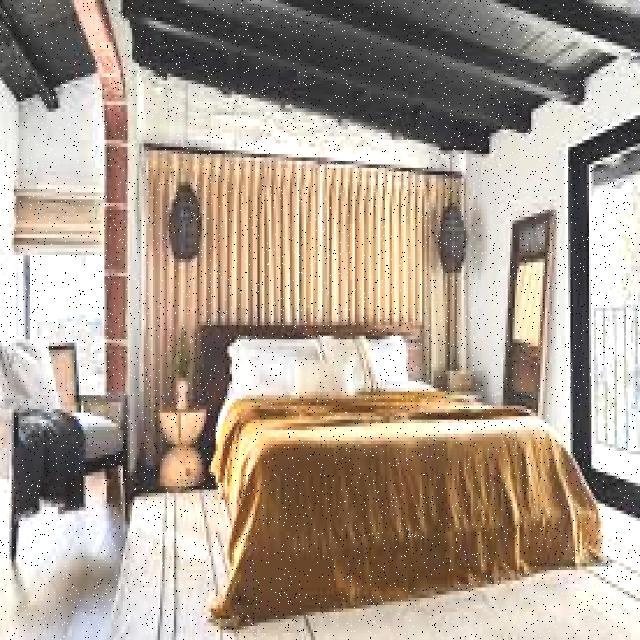bed: (199, 336, 583, 552)
